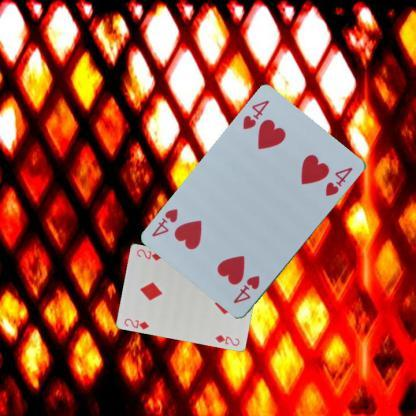2d: (122, 316, 150, 330)
4h: (230, 273, 262, 305), (240, 98, 271, 131)
